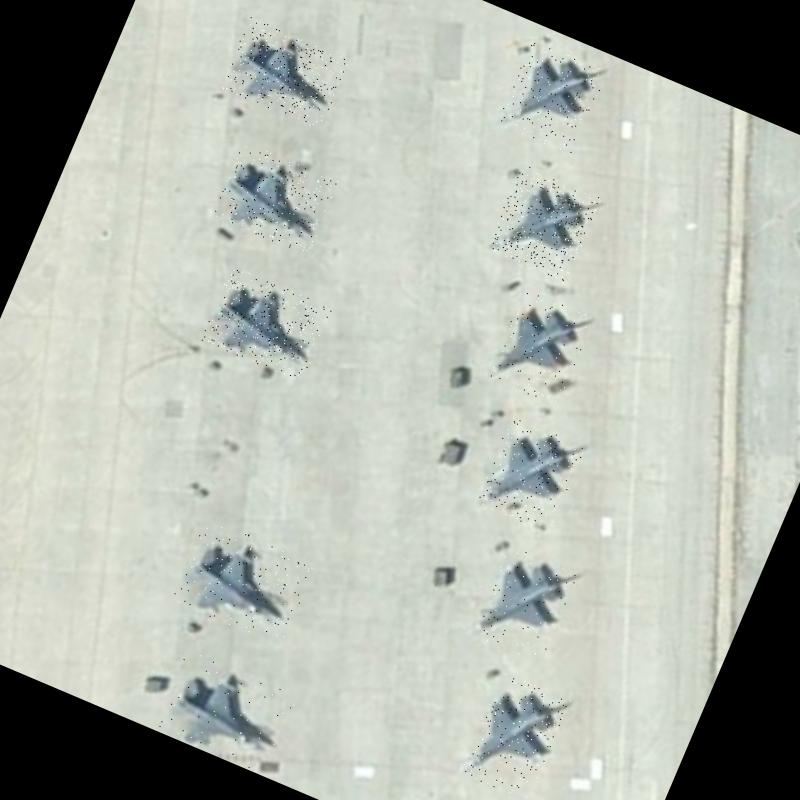A5: (172, 517, 316, 647), (152, 649, 298, 776), (200, 266, 332, 383), (211, 142, 340, 258), (219, 17, 350, 130), (460, 672, 571, 800), (486, 164, 602, 282), (474, 416, 586, 537), (496, 40, 607, 157), (470, 544, 578, 664), (487, 288, 595, 407)
